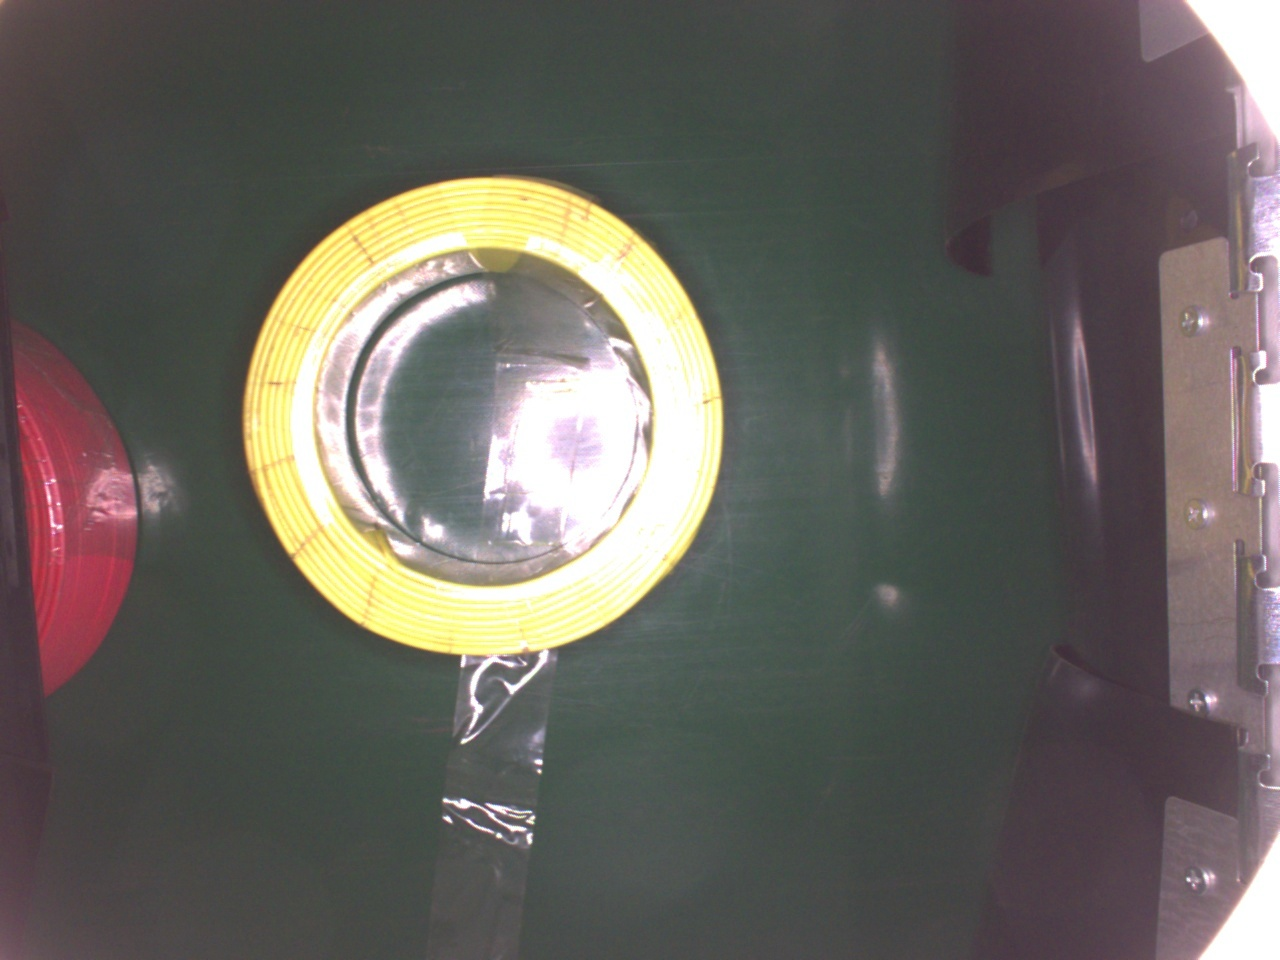red: (10, 311, 139, 701)
yellow: (240, 175, 724, 661)
